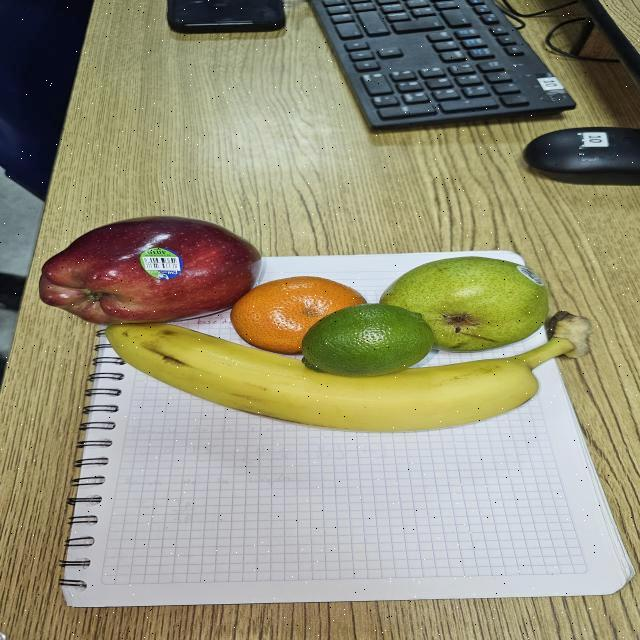Apel Merah: (31, 203, 266, 331)
Jeruk Mandarin: (225, 272, 376, 354)
Lemon: (291, 298, 448, 389)
Pir: (373, 245, 568, 362)
Pisang: (73, 308, 602, 439)
